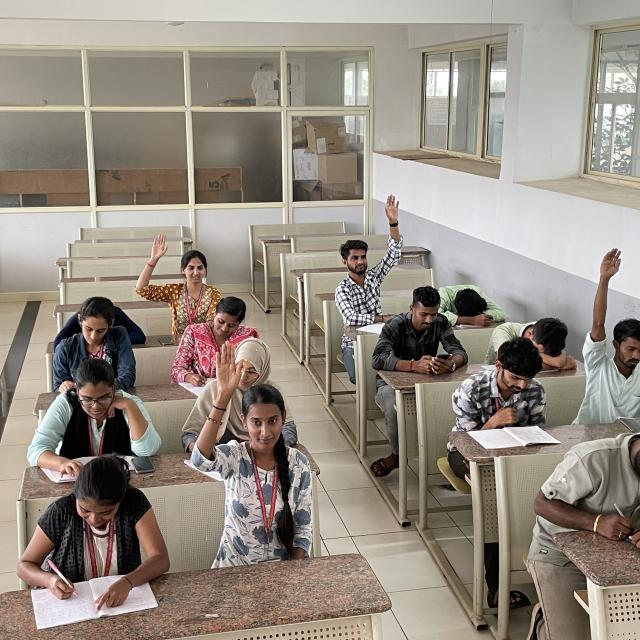Hand Rising: (192, 338, 316, 526), (577, 240, 640, 400), (331, 189, 409, 314), (133, 230, 219, 317)
Reading: (24, 357, 161, 470), (448, 338, 556, 439), (38, 295, 149, 391)
Sleeping: (478, 312, 582, 372), (432, 276, 508, 326)
Using Phone: (369, 285, 463, 374)
Writing: (4, 448, 182, 603), (528, 420, 640, 544), (178, 333, 299, 446), (175, 296, 262, 387)
